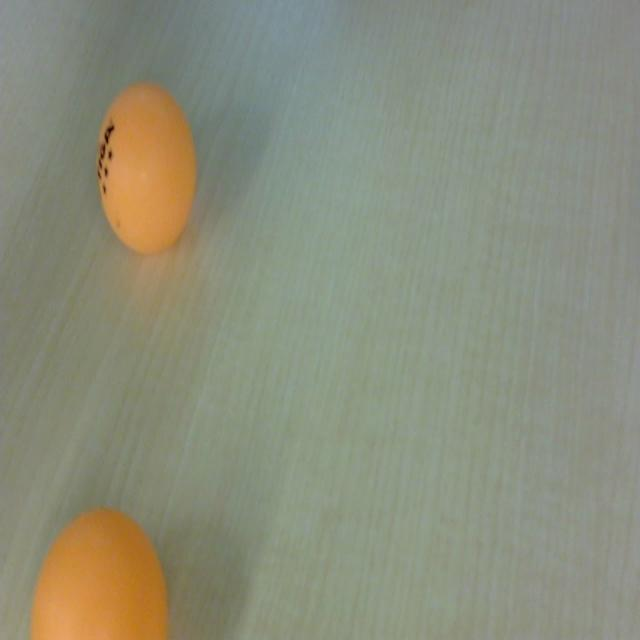ball: (28, 500, 170, 640), (97, 81, 196, 261)
